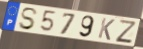5: (39, 10, 57, 34)
7: (61, 12, 77, 36)
9: (78, 15, 95, 38)
K: (97, 17, 117, 42)
S: (17, 7, 39, 31)
Z: (114, 18, 136, 44)
